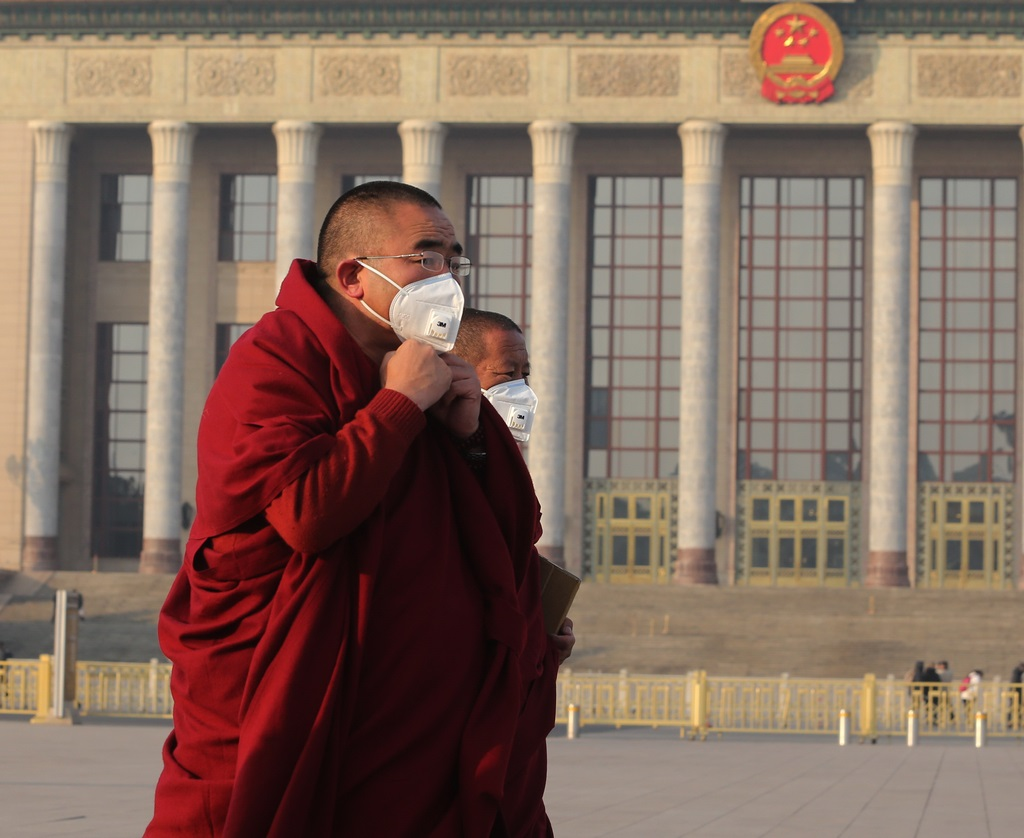face_mask: (359, 204, 468, 353), (482, 327, 536, 448)
